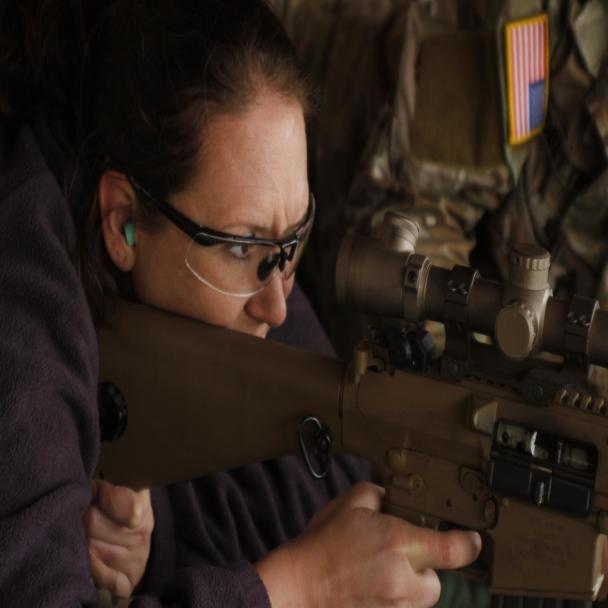Gun: (82, 289, 607, 519)
Hand: (246, 472, 477, 607), (74, 469, 166, 607)
